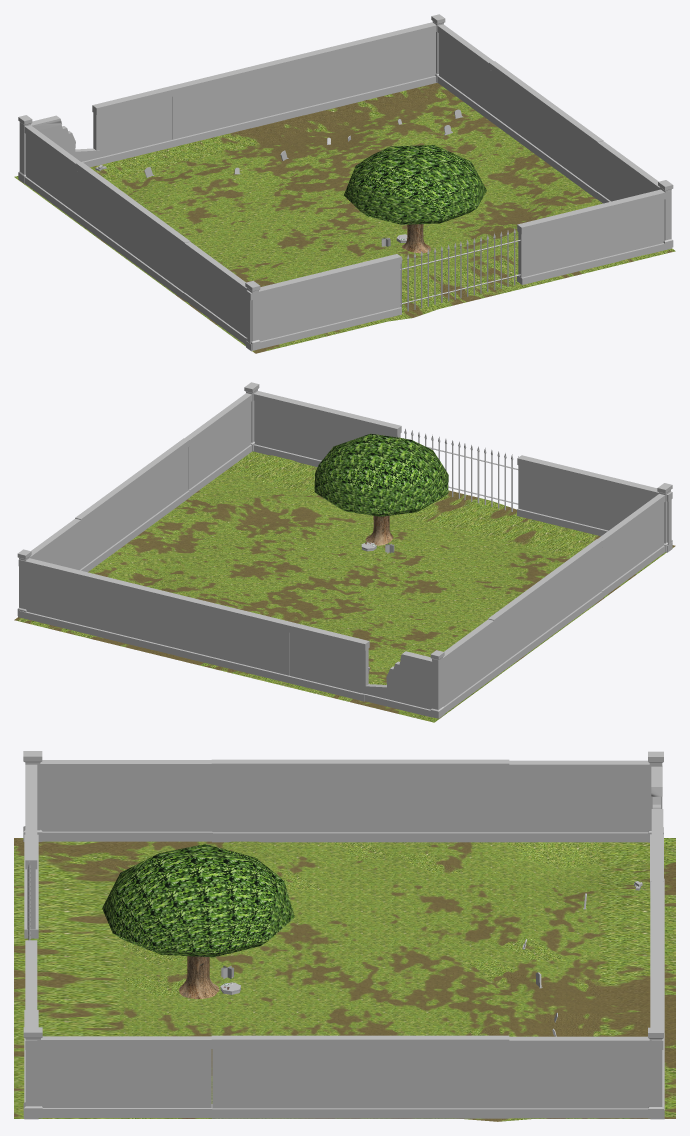
Rendered from Asset Main Building_V2.fbx_Pekarangan.fbx.
The picture shows the model from 3 angles, top to bottom: view 1: azimuth 30°, elevation 25°; view 2: azimuth 150°, elevation 25°; view 3: azimuth 270°, elevation 25°; orthographic projection. The views are drawn at different scales.
Parts seen in each view (by area): view 1: ground, pohon beringin, Wall_01.003, Wall_01.014, Wall_01.001, Wall_01.011, Wall_01.004, Wall.001, Wall_01.010, Wall_01.015, Wall_01.005, Wall (+9 smaller); view 2: ground, pohon beringin, Wall_01.003, Wall_01.001, Wall_01.011, Wall_01.004, Wall_01.005, Wall.001, Wall.003, Wall_01.015, Wall, Wall_01.007 (+9 smaller); view 3: ground, pohon beringin, Wall.003, Wall.001, Wall.002, Wall_01.008, Wall_01.006, Wall_01.009, Wall_01.007, Wall, Wall_01.011, Wall_01.003 (+7 smaller).
Part boxes in pixels (x1,y1,x2,y2): ground: (14,83,675,353); pohon beringin: (344,145,486,253); Wall_01.003: (169,56,296,146); Wall_01.014: (517,206,597,284); Wall_01.001: (92,86,173,165); Wall_01.011: (321,254,401,332); Wall_01.004: (290,39,368,116); Wall.001: (183,242,260,350); Wall_01.010: (246,272,326,351); Wall_01.015: (592,189,672,266); Wall_01.005: (364,22,436,99); Wall: (18,115,80,221); ground: (14,451,675,722); pohon beringin: (314,433,448,545); Wall_01.003: (165,592,292,682); Wall_01.001: (288,622,369,701); Wall_01.011: (517,455,596,534); Wall_01.004: (93,575,171,653); Wall_01.005: (18,558,97,635); Wall.001: (597,483,672,597); Wall.003: (184,382,259,496); Wall_01.015: (253,391,326,466); Wall: (430,619,496,718); Wall_01.007: (542,539,602,637); ground: (14,838,675,1121); pohon beringin: (102,844,294,998); Wall.003: (23,1027,212,1118); Wall.001: (23,751,212,841); Wall.002: (504,1027,663,1118); Wall_01.008: (359,1035,509,1118); Wall_01.006: (359,759,509,842); Wall_01.009: (211,1035,361,1118); Wall_01.007: (211,759,361,842); Wall: (504,751,663,842); Wall_01.011: (24,809,38,938); Wall_01.003: (650,860,664,1011).
Bounding box in the file's own units: 85118 × 20442 × 84442.
